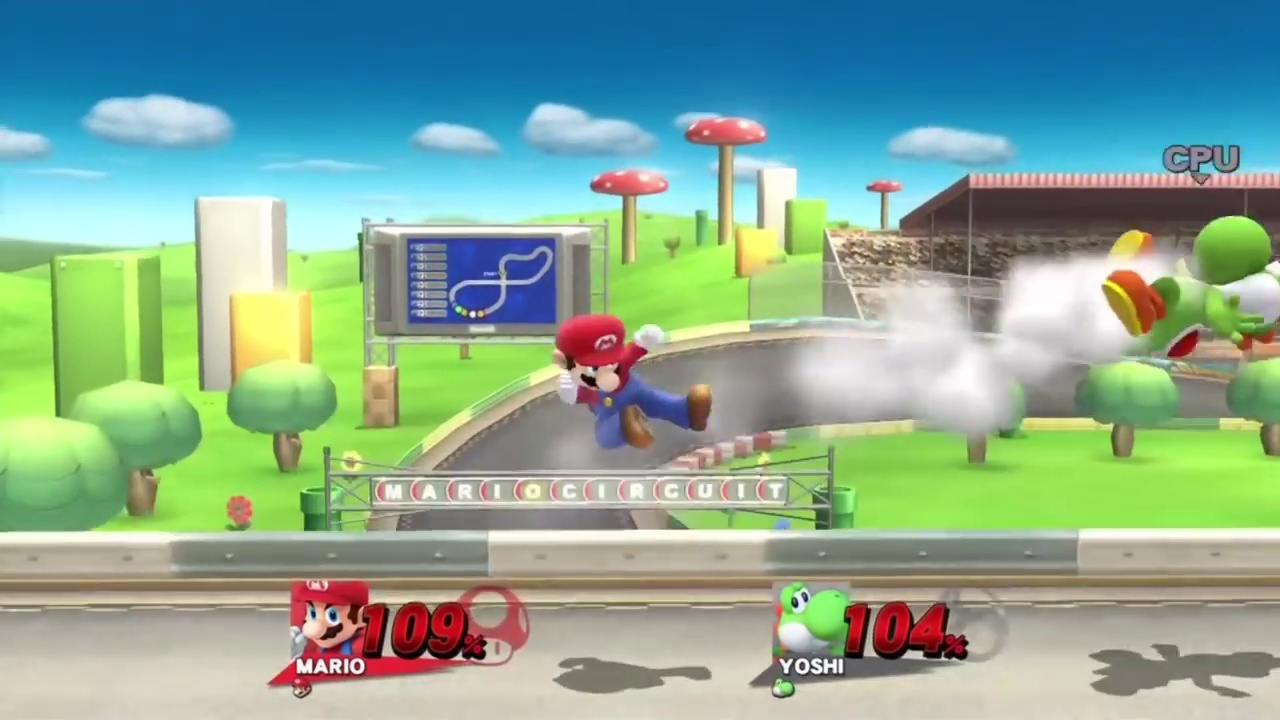Mario: (553, 312, 713, 450)
